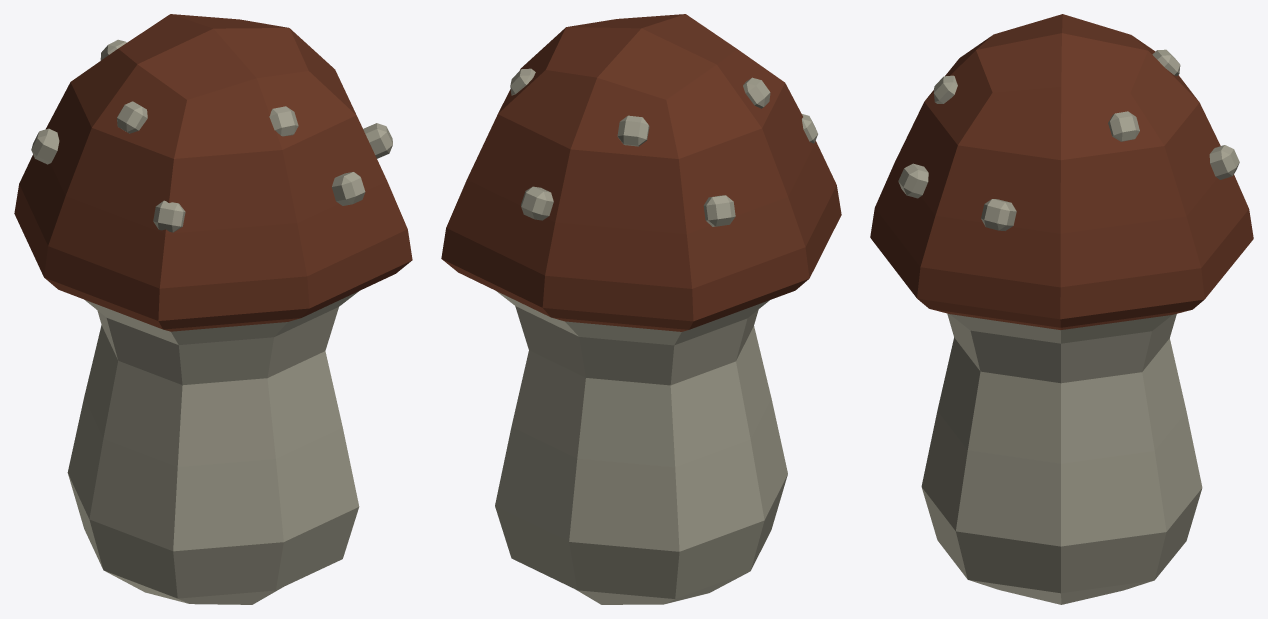
File: mushroom_2.gltf
The picture shows the model from 3 angles, left to right: view 1: azimuth 30°, elevation 25°; view 2: azimuth 150°, elevation 25°; view 3: azimuth 270°, elevation 25°; orthographic projection.
Visible parts, largest first — view 1: mushroom_2; view 2: mushroom_2; view 3: mushroom_2.
Boxes of the visible parts, bbox=[...] form: mushroom_2: bbox=[14, 14, 412, 604]; mushroom_2: bbox=[441, 14, 841, 604]; mushroom_2: bbox=[870, 14, 1253, 604].
Bounding box in the file's own units: 0.1415 × 0.2237 × 0.1415.
Materials: 1 (1 with a texture image).
